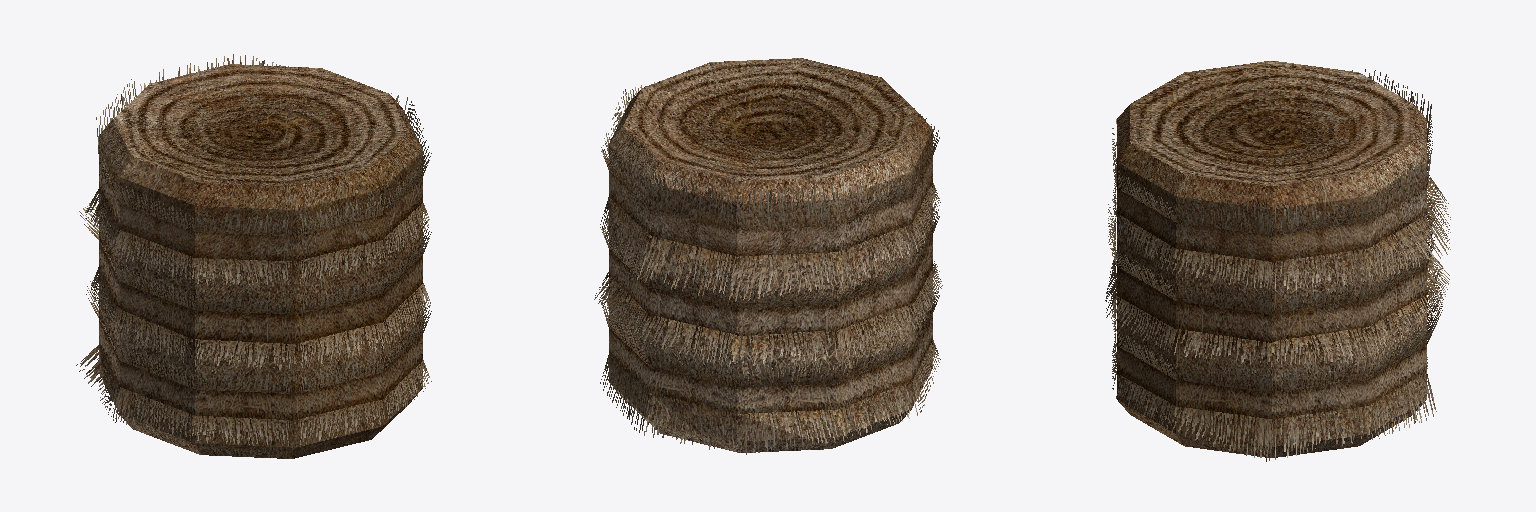
The picture shows the model from 3 angles: view 1: azimuth 30°, elevation 25°; view 2: azimuth 150°, elevation 25°; view 3: azimuth 270°, elevation 25°; orthographic projection.
Visible parts, largest first — view 1: Sphere01_0; view 2: Sphere01_0; view 3: Sphere01_0.
Part boxes in pixels (x1,y1,x2,y2): Sphere01_0: (76, 54, 431, 458); Sphere01_0: (594, 58, 942, 454); Sphere01_0: (1105, 61, 1450, 461).
Bounding box in the file's own units: 1.5 × 1.39 × 1.53.
1 materials, 1 textured.